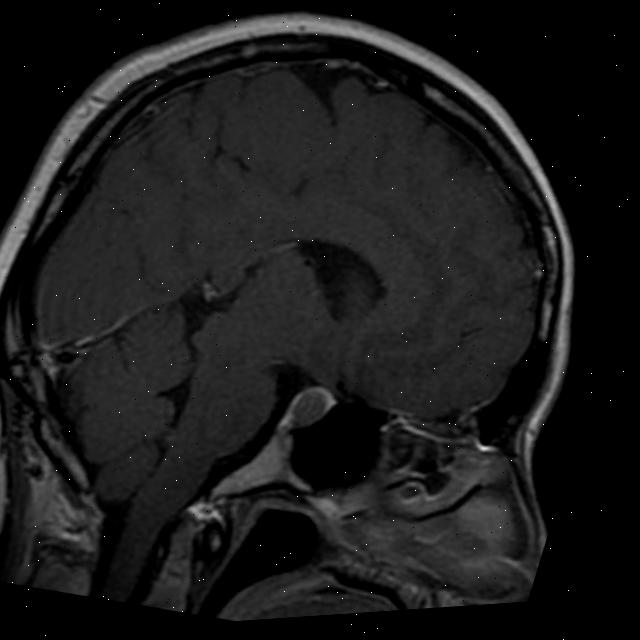Pituitary: (273, 377, 342, 443)
